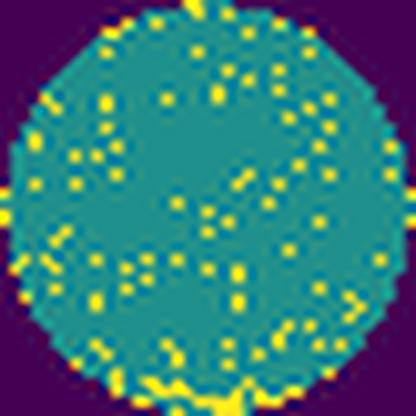Edge-Loc: (133, 370, 308, 416)
